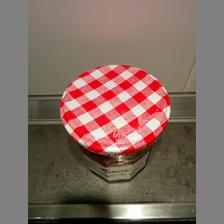Marmelade: (57, 61, 171, 182)
